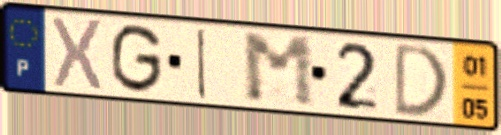2: (334, 40, 381, 115)
D: (391, 40, 450, 119)
G: (108, 21, 165, 96)
I: (195, 25, 209, 101)
M: (239, 31, 319, 110)
X: (49, 13, 106, 95)
